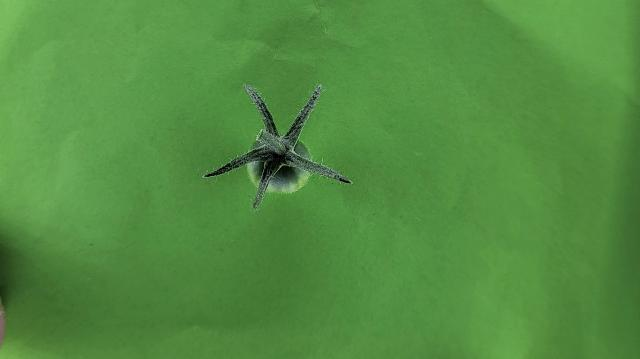Fruit Maturation: (245, 139, 313, 194)
